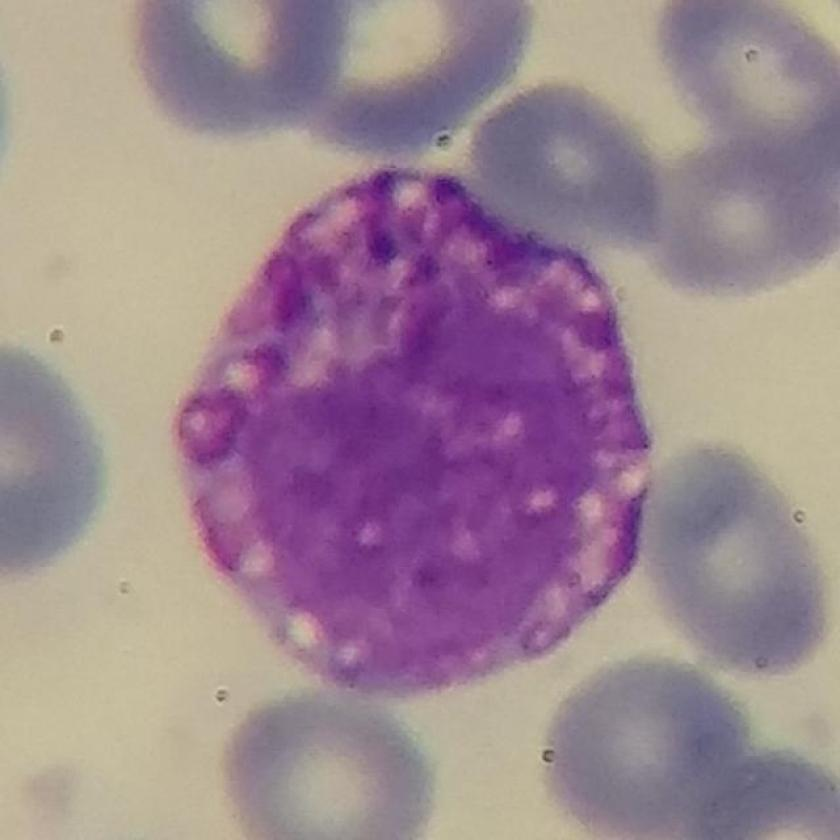basophil: (173, 161, 664, 702)
